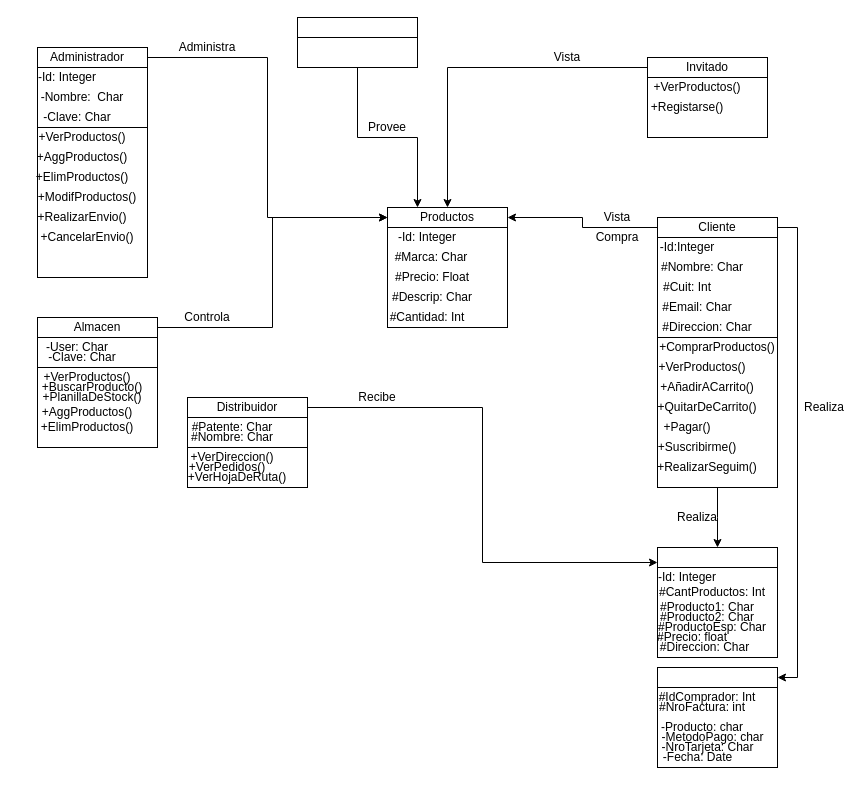
The diagram is 861 pixels wide and 785 high, and some of its shapes have lost their labels. The shapes that lost their labels are listed below. From the top down, each one's centre as x and y in pixels, then its label:
At [357,27]: "Proveedor".
At [717,557]: "Pedido".
At [717,677]: "Pagos".
